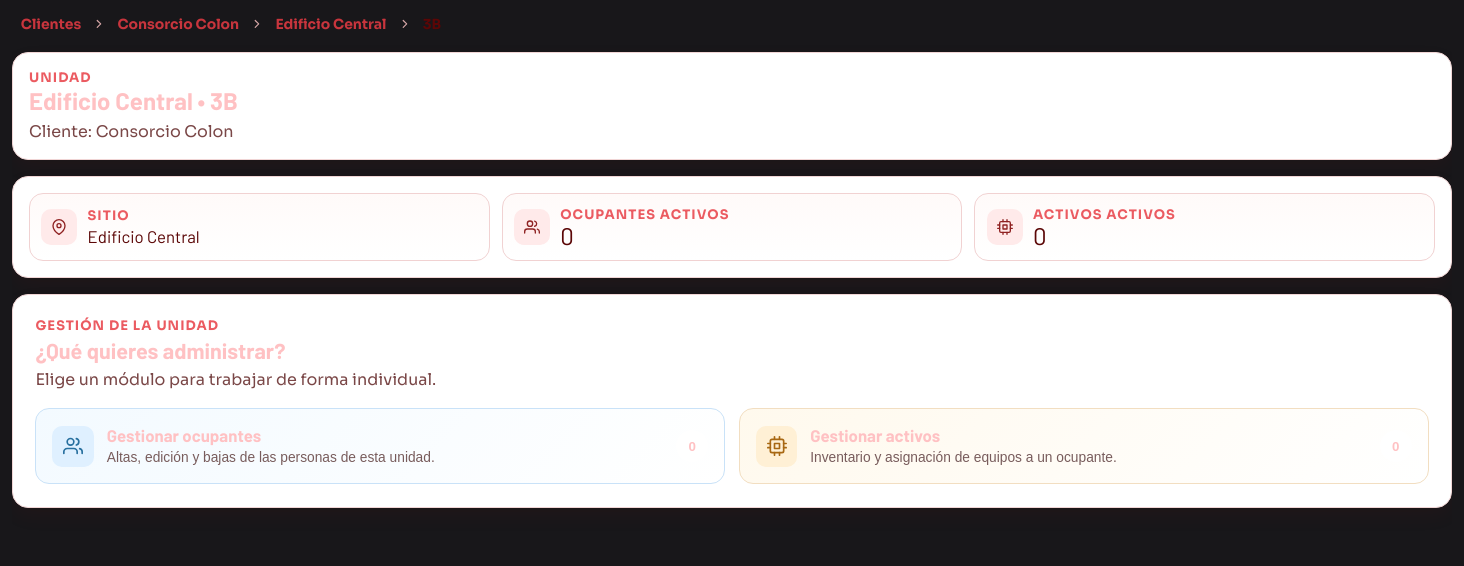
UnidadDetailPage › muestra el selector de gestion y permite elegir entre ocupantes y activos
The width and height of the screenshot is (1464, 566).
Expected: the heading "¿Qué quieres administrar?" is shown, [35,337,286,363]
Click the button "Gestionar ocupantes".
click(73, 446)  # box [35,408,725,484]
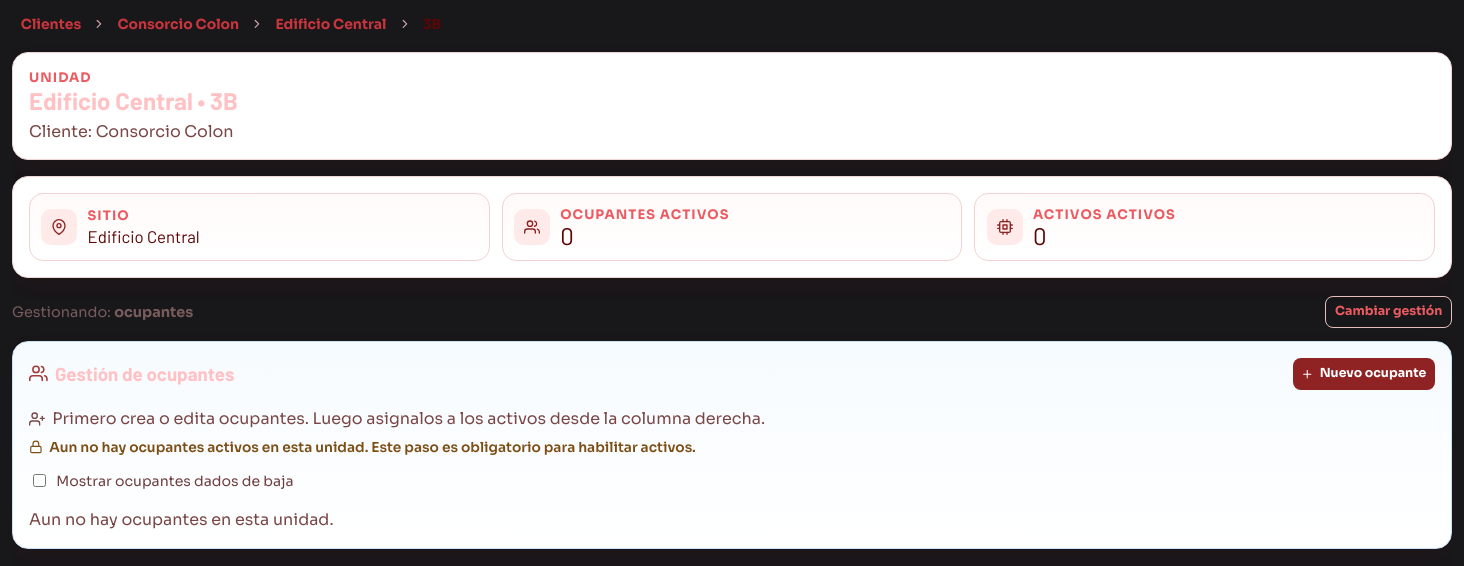
Now the heading "Gestión de ocupantes" is shown, box [29,362,234,385]
